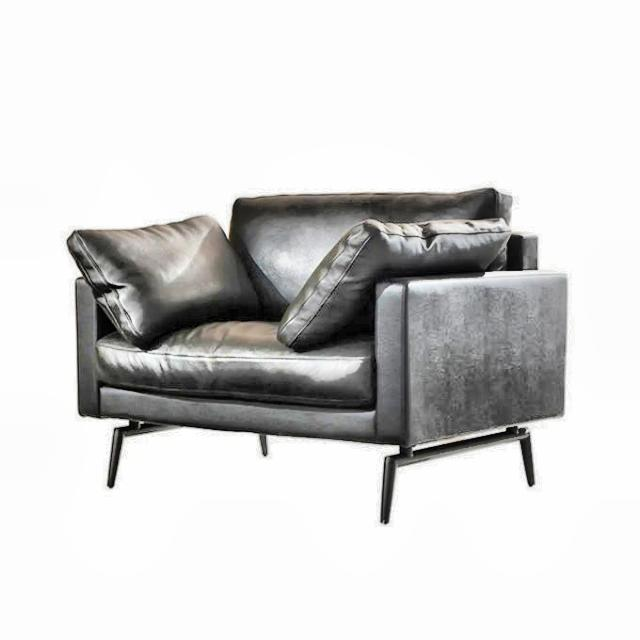sofa: (66, 186, 567, 524)
